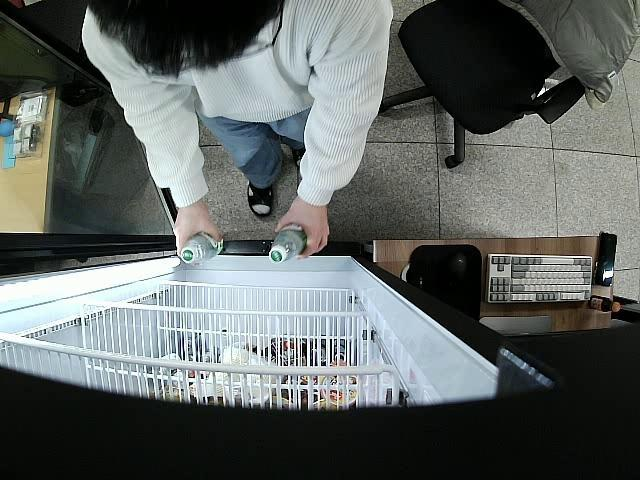18_trevi: (269, 222, 307, 266), (181, 234, 225, 262)
